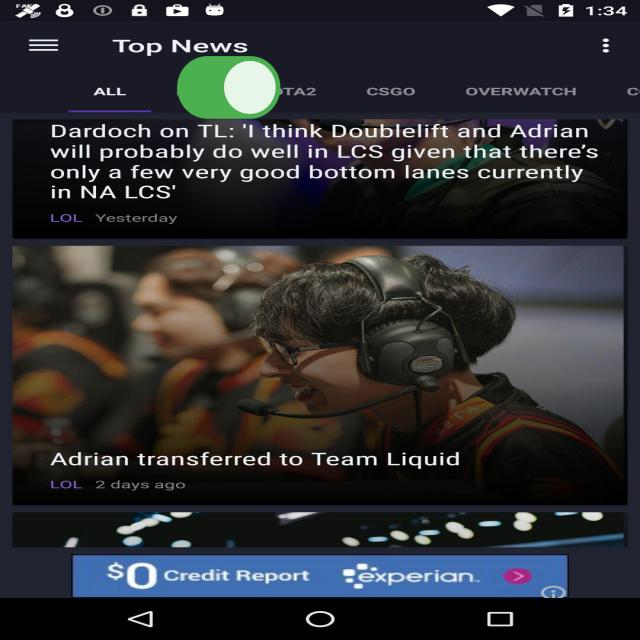social proof: (172, 32, 285, 148)
